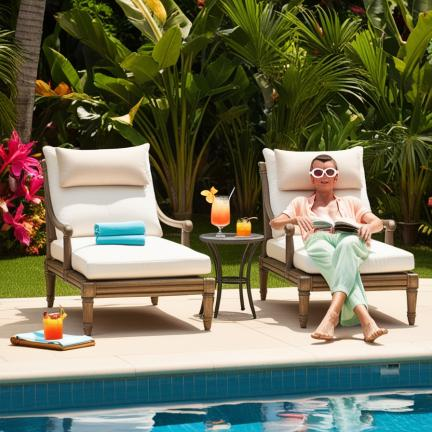guest on chair: (259, 146, 418, 342)
occupied chair: (42, 143, 215, 335)
